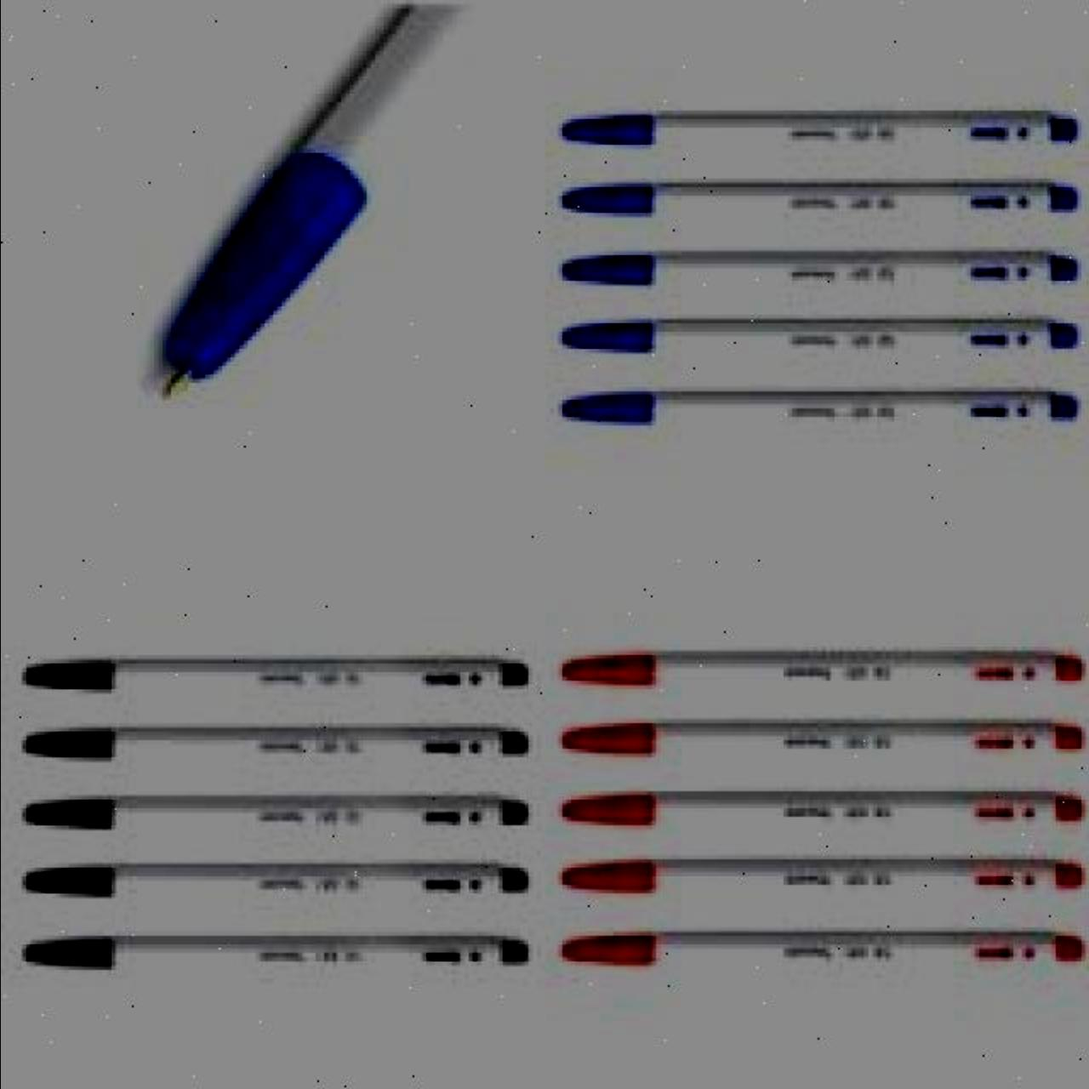pen: (15, 652, 531, 694), (15, 791, 531, 830), (20, 859, 531, 898), (15, 728, 531, 762), (15, 936, 522, 966)
